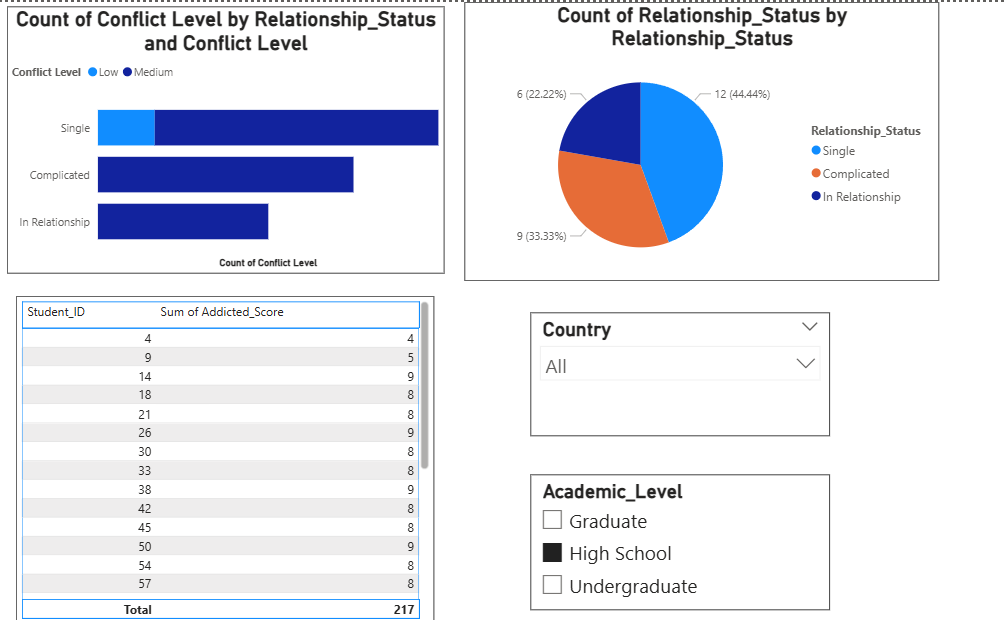

This screenshot's page, from the dashboard's own definition file:
{"tool":"powerbi","page":{"name":"Page 4","canvas":[1280,720],"ordinal":3},"visuals":[{"type":"barChart","fields":{"Category":["Student Details.Relationship_Status"],"Y":["CountNonNull(Student Details.Conflict Level)"],"Series":["Student Details.Conflict Level"]},"box":[20.8,5.7,485.7,296.7],"z":0},{"type":"tableEx","fields":{"Values":["Student Details.Student_ID","Sum(Student Details.Addicted_Score)"]},"box":[30.2,326.9,464.9,364.7],"z":1000},{"type":"pieChart","fields":{"Category":["Student Details.Relationship_Status"],"Y":["CountNonNull(Student Details.Relationship_Status)"]},"box":[529.1,0,527.2,309.9],"z":2000},{"type":"slicer","fields":{"Values":["Student Details.Country"]},"box":[601.3,344.5,333,137.5],"z":2001},{"type":"slicer","fields":{"Values":["Student Details.Academic_Level"]},"box":[601.3,525.1,333,150.7],"z":2002}]}

Visuals, with their boxes on the page's 1280x720 design canvas (x1, y1, x2, y2). These are canvas units, not pixel positions in the 1004x620 screenshot, which may show the page scaled, cropped or inside an application window:
barChart - Student Details.Relationship_Status x CountNonNull(Student Details.Conflict Level): l=21, t=6, r=506, b=302
tableEx - Student Details.Student_ID x Sum(Student Details.Addicted_Score): l=30, t=327, r=495, b=692
pieChart - Student Details.Relationship_Status x CountNonNull(Student Details.Relationship_Status): l=529, t=0, r=1056, b=310
slicer - Student Details.Country: l=601, t=344, r=934, b=482
slicer - Student Details.Academic_Level: l=601, t=525, r=934, b=676
